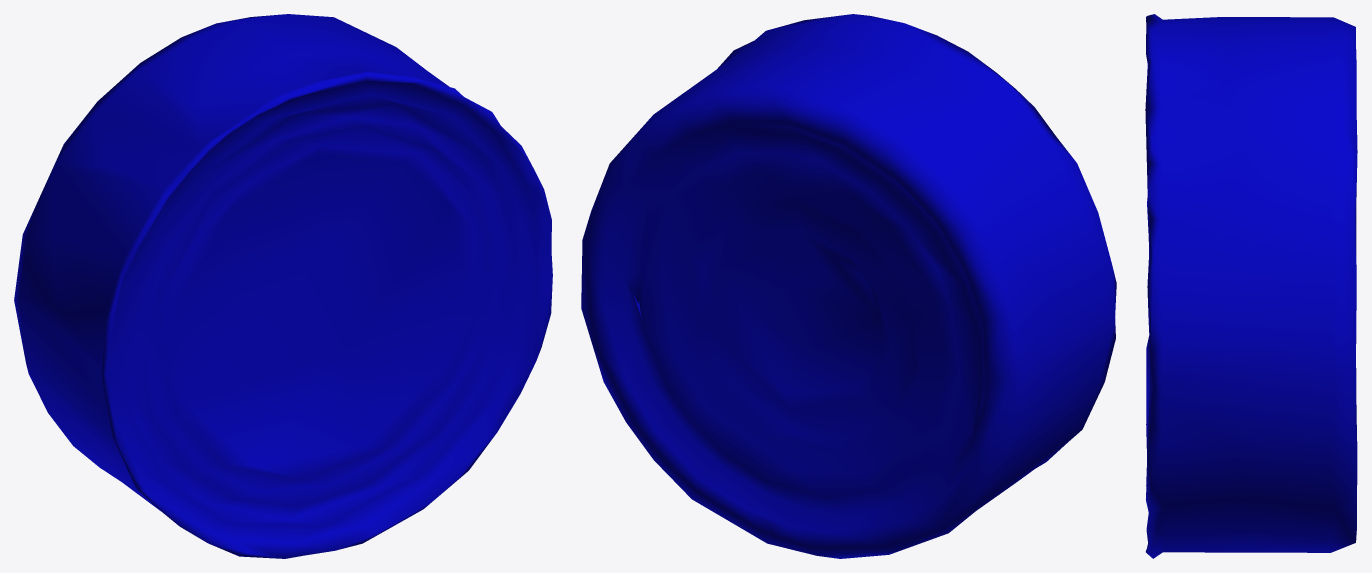
The model's file is 08194_sparse_textured_ok.obj.
3 renders of one model, left to right at view 1: azimuth 30°, elevation 25°; view 2: azimuth 150°, elevation 25°; view 3: azimuth 270°, elevation 25°, orthographic. The views are drawn at different scales.
Visible parts, largest first — view 1: textured_ok; view 2: textured_ok; view 3: textured_ok.
Boxes of the visible parts, x1,y1,x2,y2 form: textured_ok: (14, 14, 552, 558); textured_ok: (581, 14, 1116, 558); textured_ok: (1145, 14, 1357, 558).
Size of the model in its own units: 0.0849 by 0.0857 by 0.0333.
